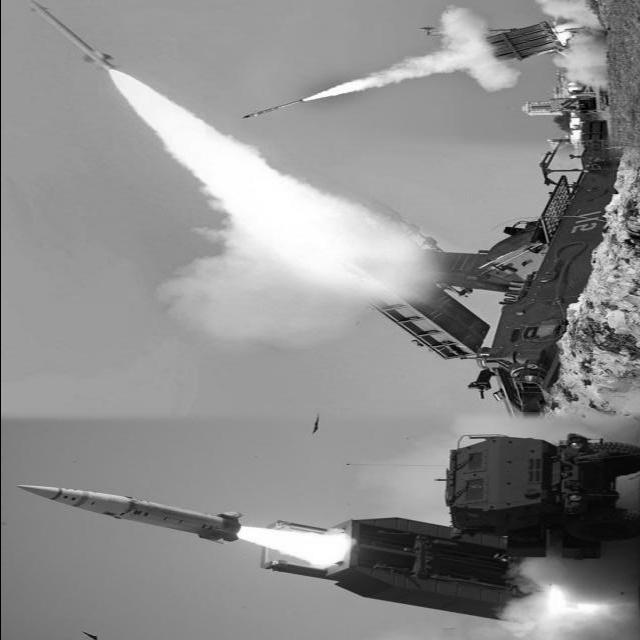Missile: (5, 481, 247, 546), (26, 0, 119, 72), (235, 97, 309, 123)
